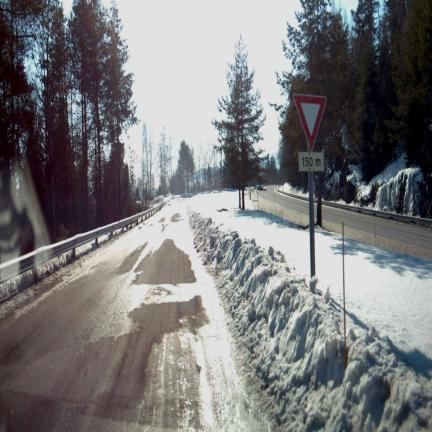Road: (0, 202, 268, 430)
